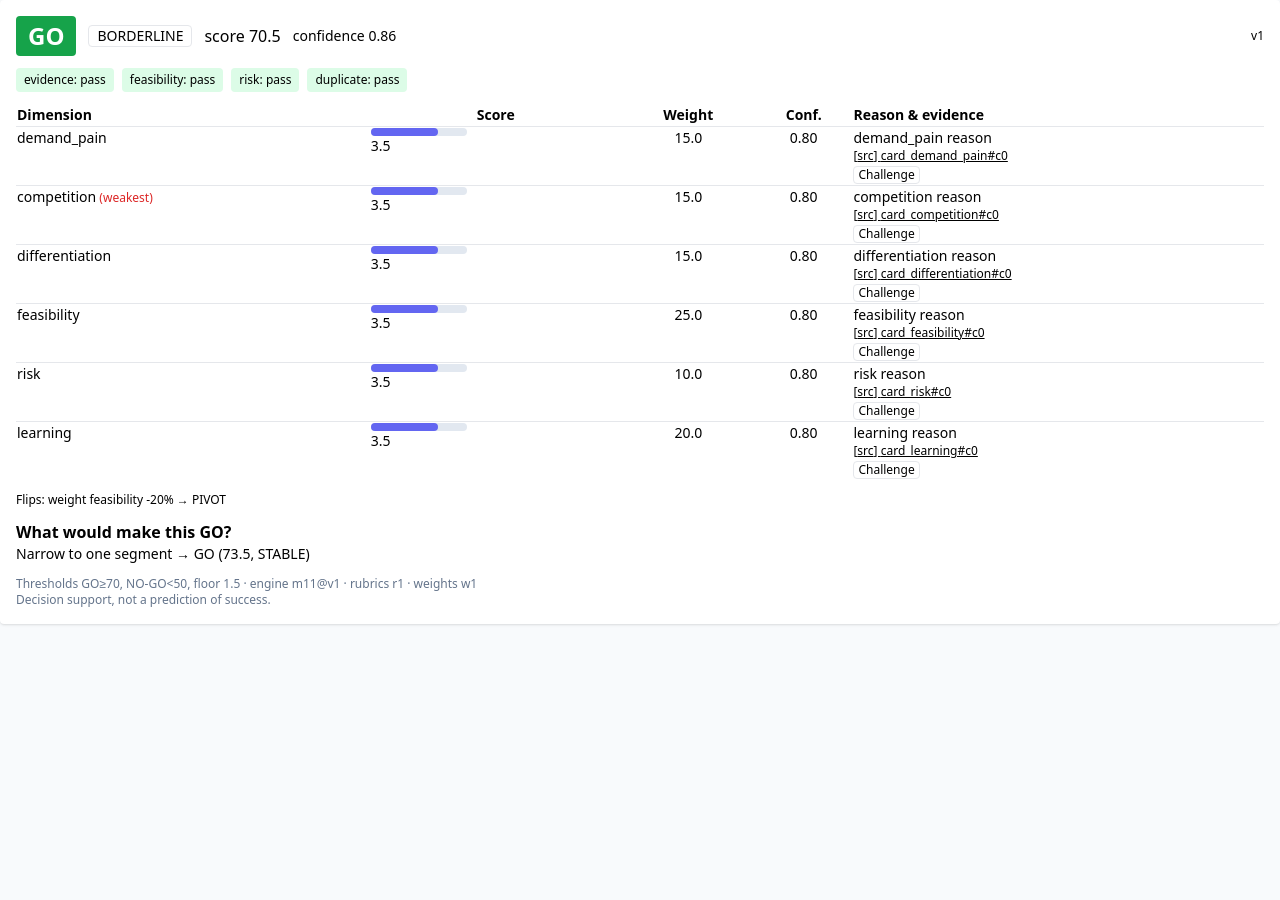
Test case: VerdictCard › renders the challenge result
Click the button "Challenge" below "card_competition#c0" at (887, 234), box [853,225,920,243]
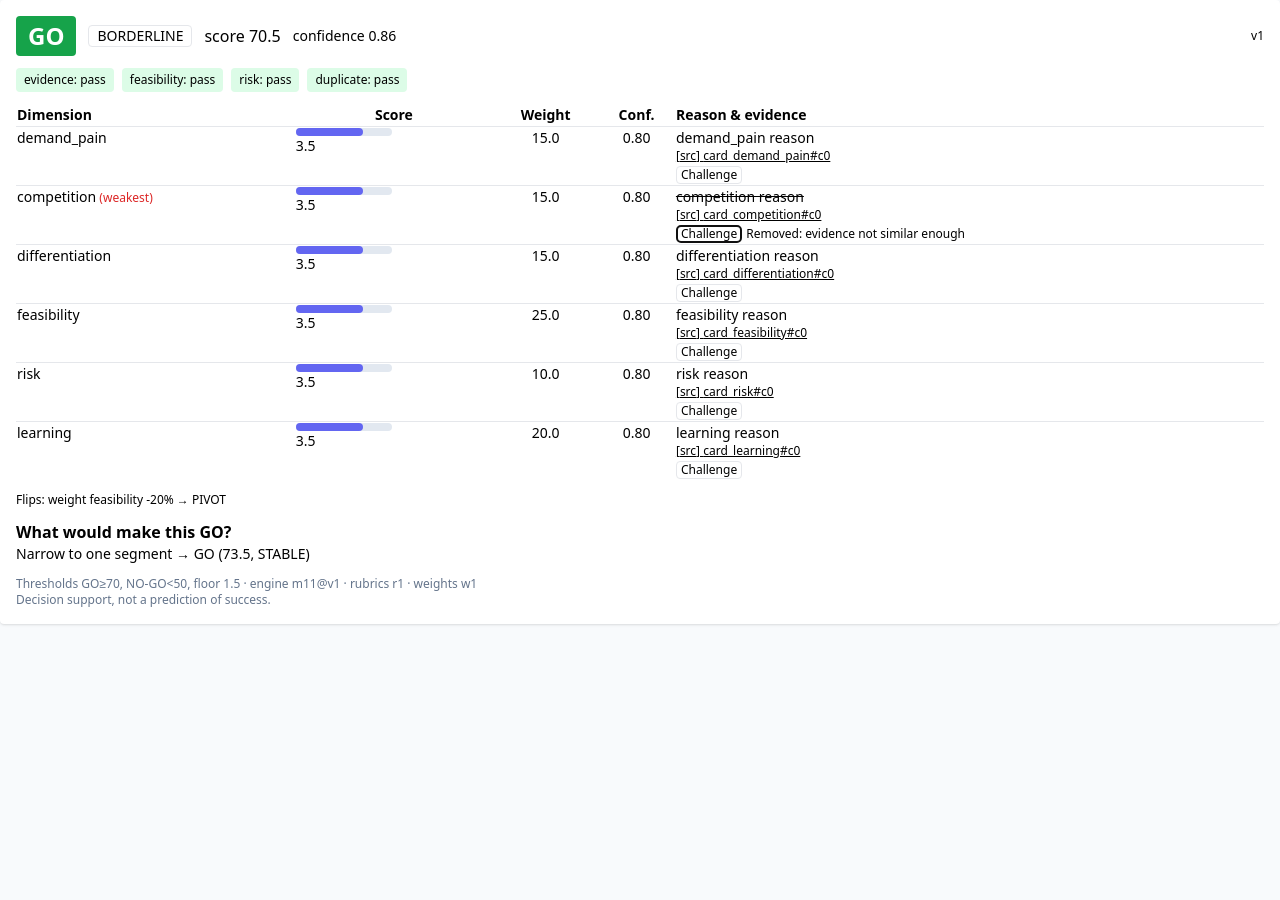
Now the text with test id "challenge-competition" reads "Removed: evidence not similar enough", box [746,225,965,242]
